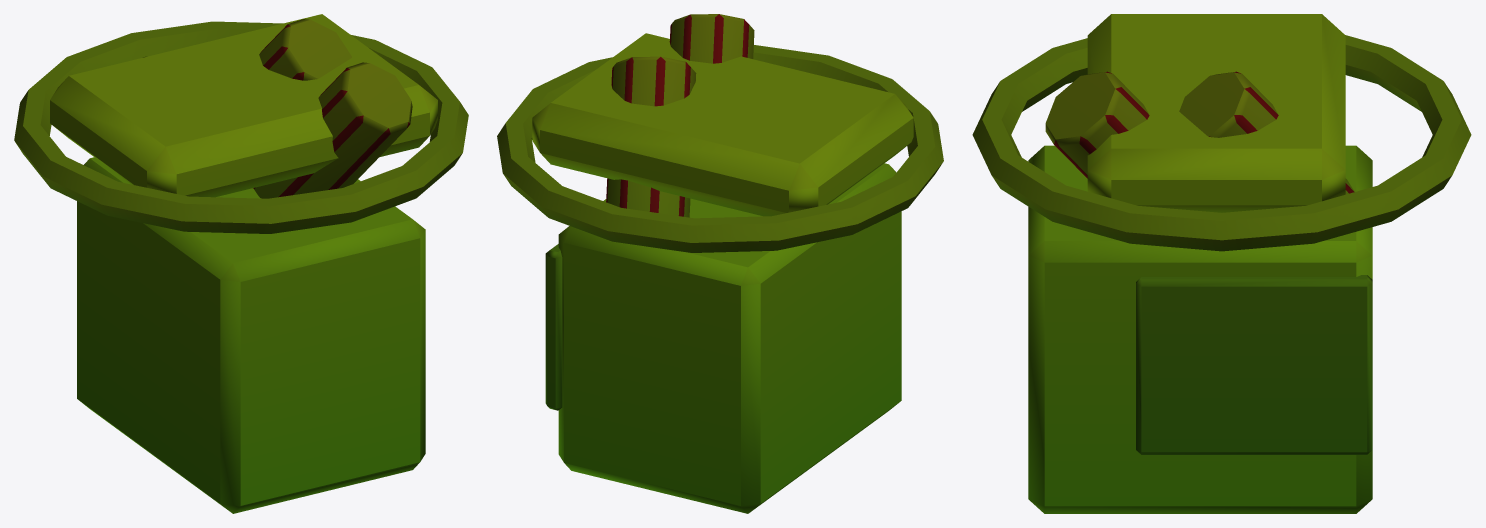
The model's file is RCLModule_command_relay_cyber_nanoweave.fbx.
3 views of the same model, side by side, from view 1: azimuth 30°, elevation 25°; view 2: azimuth 150°, elevation 25°; view 3: azimuth 270°, elevation 25° (orthographic). The views are drawn at different scales.
Parts seen in each view (by area): view 1: RCLModule_command_relay_cyber_nanoweave_Batch_RCLModuleMater (×2); view 2: RCLModule_command_relay_cyber_nanoweave_Batch_RCLModuleMater (×3); view 3: RCLModule_command_relay_cyber_nanoweave_Batch_RCLModuleMater (×3).
Boxes of the visible parts, bbox=[...] form: RCLModule_command_relay_cyber_nanoweave_Batch_RCLModuleMater (×2): bbox=[14, 14, 468, 513]; RCLModule_command_relay_cyber_nanoweave_Batch_RCLModuleMater (×3): bbox=[497, 14, 943, 513]; RCLModule_command_relay_cyber_nanoweave_Batch_RCLModuleMater (×3): bbox=[972, 14, 1471, 513].
Size of the model in its own units: 46.4 by 43.39 by 46.4.
